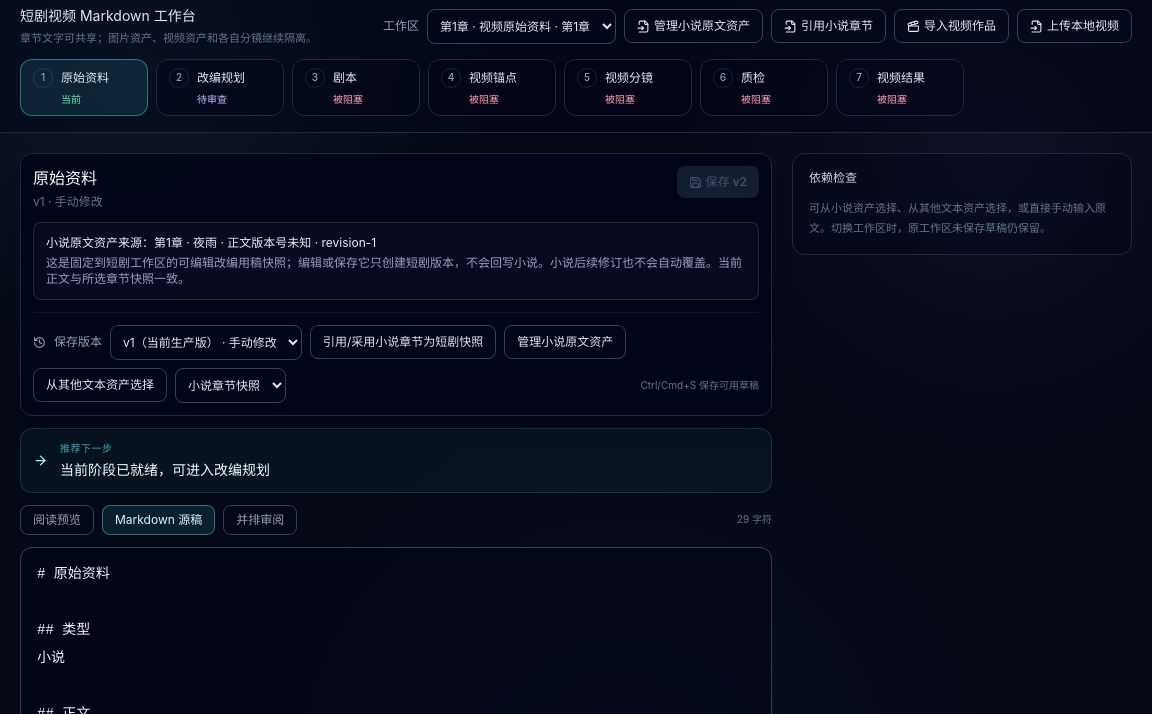
Scenario: VideoMarkdownWorkspace editing loop › keeps the short-drama snapshot unchanged when shared novel-asset management saves a revision
Click the button "管理小说原文资产" in the row of "保存版本": coordinates (565, 342) [504,325,626,359]
(page scrolled)
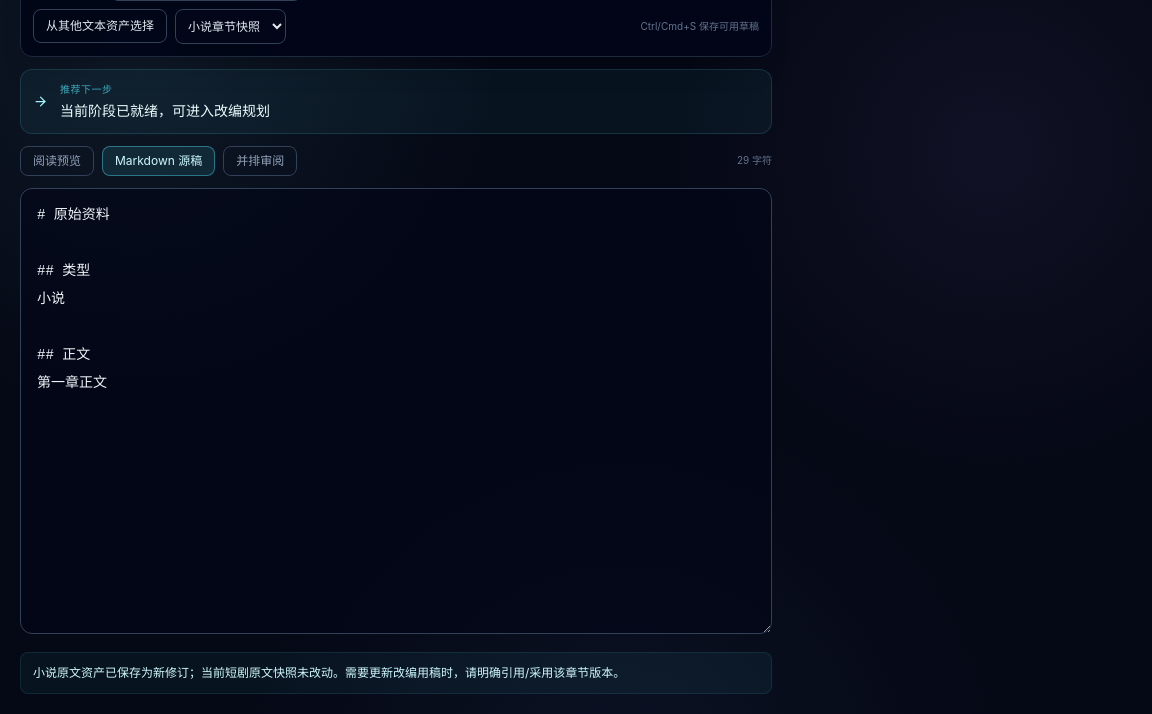
Expected: the message shows "当前短剧原文快照未改动", [33,665,625,680]
